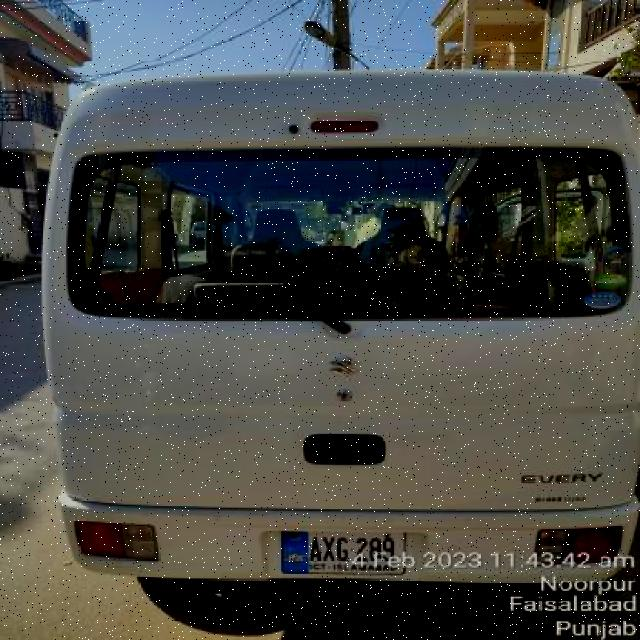licenseplate: (269, 525, 416, 580)
